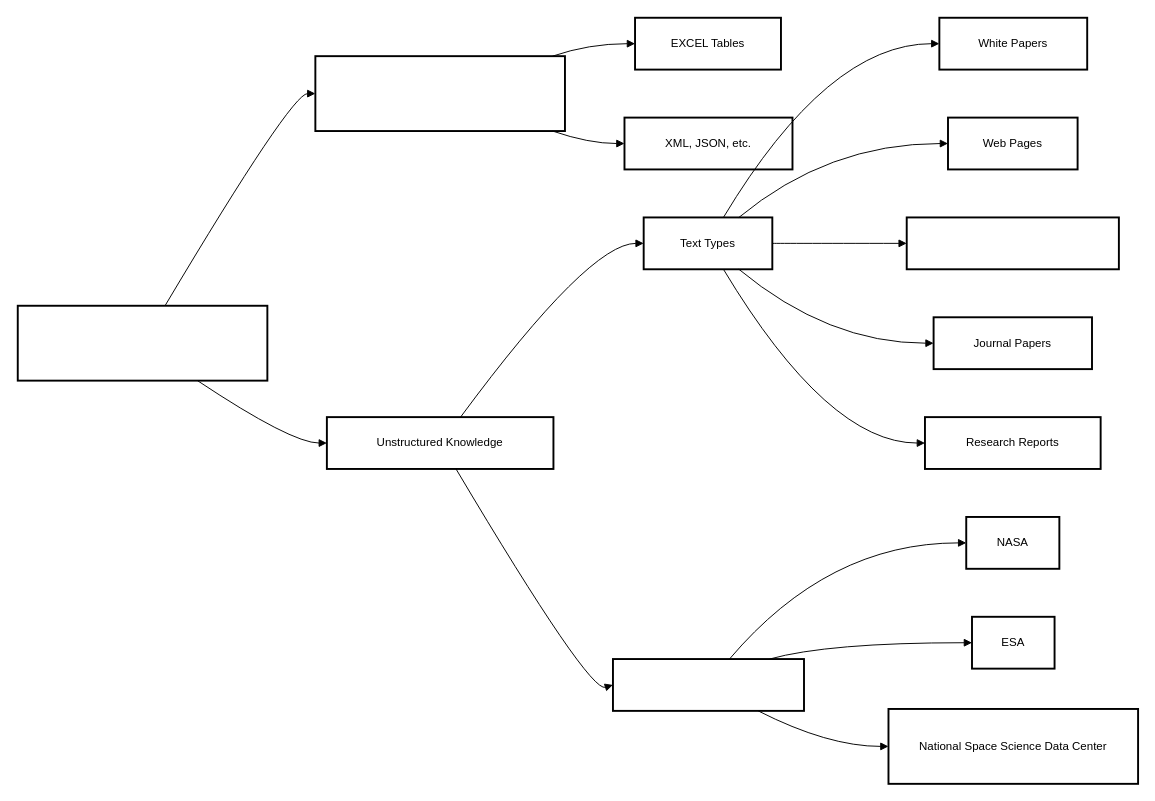
Some shapes in this 1155 by 801 pixel diagram are drawn without their labels. Here are the shapes that lost their labels. From the top down, the box of each, then its label:
(314, 55, 565, 132): Structured/Semi-structured Knowledge
(905, 216, 1119, 270): Engineering Task Plans
(16, 304, 268, 381): Deep Space Exploration Knowledge Types
(612, 658, 804, 711): Types of web pages
